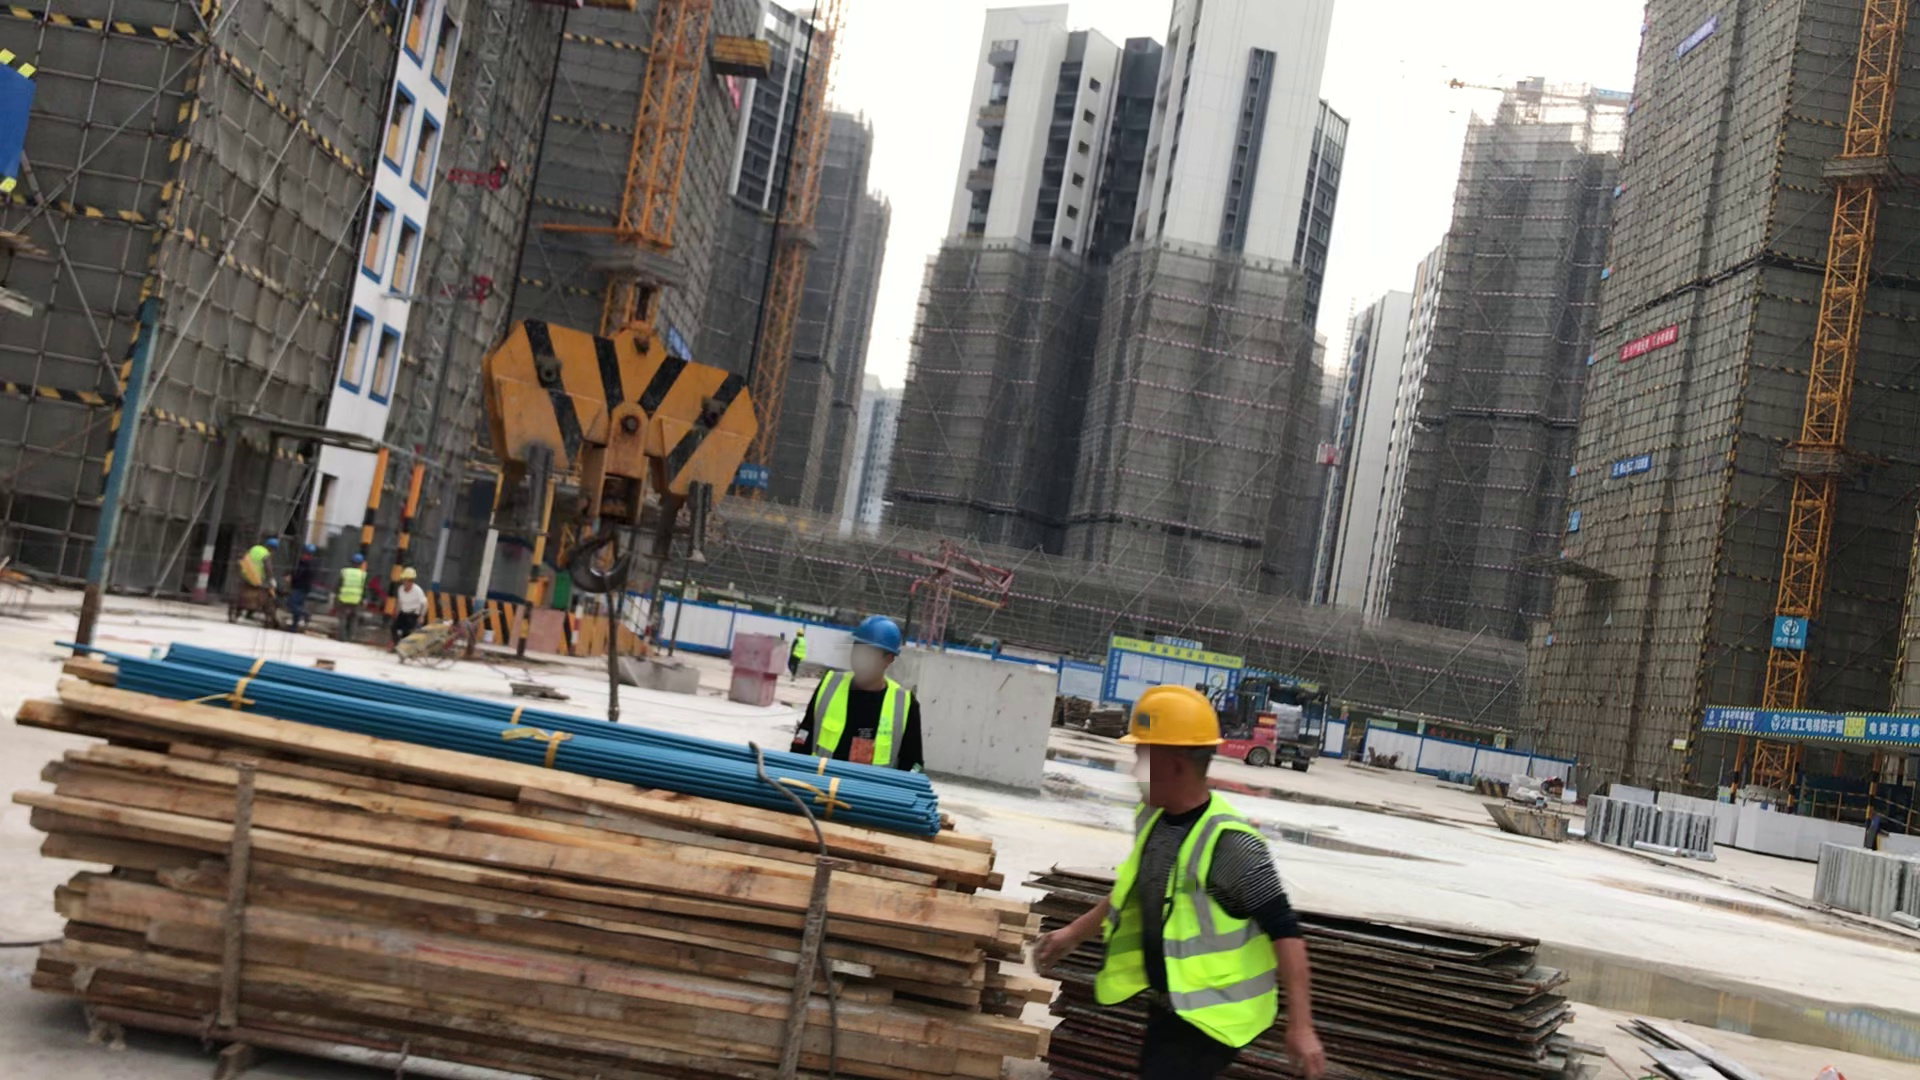board: (1021, 853, 1561, 1070)
helmet: (1112, 676, 1260, 769), (840, 610, 914, 658), (341, 537, 369, 572), (257, 531, 282, 555), (786, 626, 810, 646), (401, 563, 420, 583)
hook: (483, 288, 764, 530)
hopper: (1483, 780, 1579, 842), (616, 646, 700, 698)
person: (1050, 688, 1316, 1080), (819, 608, 930, 802), (389, 561, 431, 646), (238, 529, 279, 597), (337, 554, 367, 630), (290, 537, 316, 615), (789, 628, 810, 677)
scaffold: (1818, 832, 1920, 941), (1595, 781, 1724, 858)
slogan: (1686, 689, 1920, 742)
vest: (1123, 813, 1273, 1025), (820, 671, 908, 777), (340, 568, 364, 600), (795, 640, 802, 663)
wood: (37, 699, 970, 1080)
